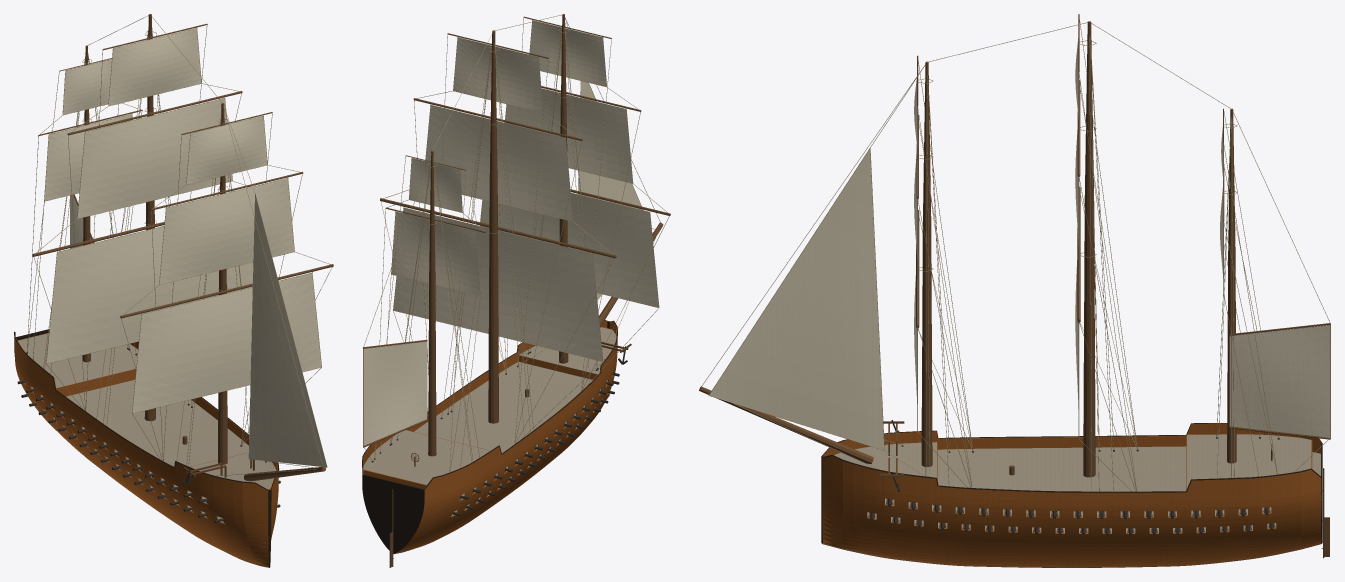
The model's file is ship.glb.
3 views of the same model, side by side, from view 1: azimuth 30°, elevation 25°; view 2: azimuth 150°, elevation 25°; view 3: azimuth 270°, elevation 25° (orthographic). The views are drawn at different scales.
Parts seen in each view (by area): view 1: fore_square_00, hull_shell_starboard, main_square_00, jib_00, main_square_01, fore_square_01, main_deck, main_square_02, fore_square_02, castle_deck_0, mizzen_square_00, mizzen_square_01 (+13 smaller); view 2: main_square_00, main_square_01, hull_shell_starboard, fore_square_00, main_deck, fore_square_01, mizzen_gaff_02, mizzen_square_00, main_square_02, castle_deck_0, main, fore_square_02 (+15 smaller); view 3: hull_shell_port, jib_00, main_deck, mizzen_gaff_02, castle_deck_0, main, hull_shell_starboard, fore, mizzen, castle_deck_1, bowsprit, gunwale_port.
Boxes of the visible parts, x1=… form: fore_square_00: x1=132, y1=273, x2=321, y2=413; hull_shell_starboard: x1=14, y1=332, x2=268, y2=566; main_square_00: x1=46, y1=226, x2=253, y2=363; jib_00: x1=249, y1=195, x2=326, y2=466; main_square_01: x1=77, y1=98, x2=232, y2=218; fore_square_01: x1=159, y1=178, x2=294, y2=284; main_deck: x1=66, y1=380, x2=248, y2=466; main_square_02: x1=108, y1=28, x2=201, y2=105; fore_square_02: x1=186, y1=116, x2=267, y2=184; castle_deck_0: x1=18, y1=333, x2=137, y2=387; mizzen_square_00: x1=44, y1=114, x2=132, y2=201; mizzen_square_01: x1=63, y1=59, x2=111, y2=114; main_square_00: x1=393, y1=208, x2=602, y2=361; main_square_01: x1=425, y1=105, x2=572, y2=221; hull_shell_starboard: x1=395, y1=321, x2=617, y2=553; fore_square_00: x1=480, y1=193, x2=658, y2=307; main_deck: x1=414, y1=362, x2=592, y2=452; fore_square_01: x1=505, y1=88, x2=632, y2=183; mizzen_gaff_02: x1=363, y1=341, x2=426, y2=445; mizzen_square_00: x1=391, y1=212, x2=480, y2=295; main_square_02: x1=453, y1=37, x2=542, y2=112; castle_deck_0: x1=363, y1=430, x2=490, y2=484; main: x1=488, y1=30, x2=498, y2=423; fore_square_02: x1=530, y1=20, x2=606, y2=86; hull_shell_port: x1=822, y1=456, x2=1321, y2=567; jib_00: x1=709, y1=149, x2=884, y2=449; main_deck: x1=937, y1=446, x2=1320, y2=491; mizzen_gaff_02: x1=1230, y1=325, x2=1330, y2=437; castle_deck_0: x1=1187, y1=434, x2=1311, y2=488; main: x1=1083, y1=21, x2=1095, y2=477; hull_shell_starboard: x1=822, y1=423, x2=1321, y2=456; fore: x1=921, y1=61, x2=932, y2=466; mizzen: x1=1227, y1=108, x2=1236, y2=463; castle_deck_1: x1=834, y1=442, x2=936, y2=477; bowsprit: x1=699, y1=386, x2=873, y2=464; gunwale_port: x1=822, y1=454, x2=1322, y2=492.
Size of the model in its own units: 34.1 by 65.13 by 68.29.
7 materials, 7 textured.
